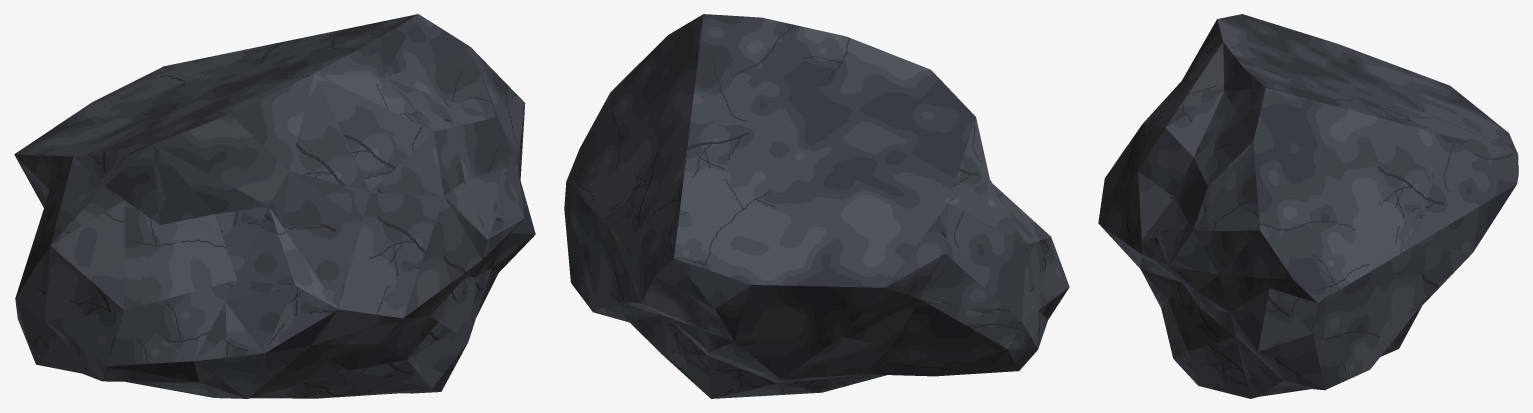
File: rock_boulder3_v1.fbx
3 renders of one model, left to right at view 1: azimuth 30°, elevation 25°; view 2: azimuth 150°, elevation 25°; view 3: azimuth 270°, elevation 25°, orthographic. The views are drawn at different scales.
Visible parts, largest first — view 1: rock_boulder3_v1_s5_lod0, rock_boulder3_v1_s3_lod0, rock_boulder3_v1_s2_lod0, rock_boulder3_v1_s4_lod0, rock_boulder3_v1_s0_lod0, rock_boulder3_v1_s1_lod0; view 2: rock_boulder3_v1_s4_lod0, rock_boulder3_v1_s1_lod0, rock_boulder3_v1_s2_lod0, rock_boulder3_v1_s5_lod0, rock_boulder3_v1_s0_lod0; view 3: rock_boulder3_v1_s0_lod0, rock_boulder3_v1_s5_lod0, rock_boulder3_v1_s1_lod0, rock_boulder3_v1_s4_lod0, rock_boulder3_v1_s3_lod0.
Part boxes in pixels (<box>): rock_boulder3_v1_s5_lod0: <box>218,14,509,229</box>; rock_boulder3_v1_s3_lod0: <box>223,210,500,398</box>; rock_boulder3_v1_s2_lod0: <box>14,153,251,398</box>; rock_boulder3_v1_s4_lod0: <box>17,35,312,224</box>; rock_boulder3_v1_s0_lod0: <box>415,83,535,393</box>; rock_boulder3_v1_s1_lod0: <box>35,51,234,140</box>; rock_boulder3_v1_s4_lod0: <box>663,54,993,292</box>; rock_boulder3_v1_s1_lod0: <box>609,169,864,398</box>; rock_boulder3_v1_s2_lod0: <box>813,183,1069,393</box>; rock_boulder3_v1_s5_lod0: <box>631,14,891,174</box>; rock_boulder3_v1_s0_lod0: <box>564,72,667,359</box>; rock_boulder3_v1_s0_lod0: <box>1151,197,1419,398</box>; rock_boulder3_v1_s5_lod0: <box>1131,29,1402,231</box>; rock_boulder3_v1_s1_lod0: <box>1380,98,1518,356</box>; rock_boulder3_v1_s4_lod0: <box>1204,14,1464,161</box>; rock_boulder3_v1_s3_lod0: <box>1098,138,1182,367</box>.
Size of what is drawn, in the model's own units: 359 by 240 by 300.
